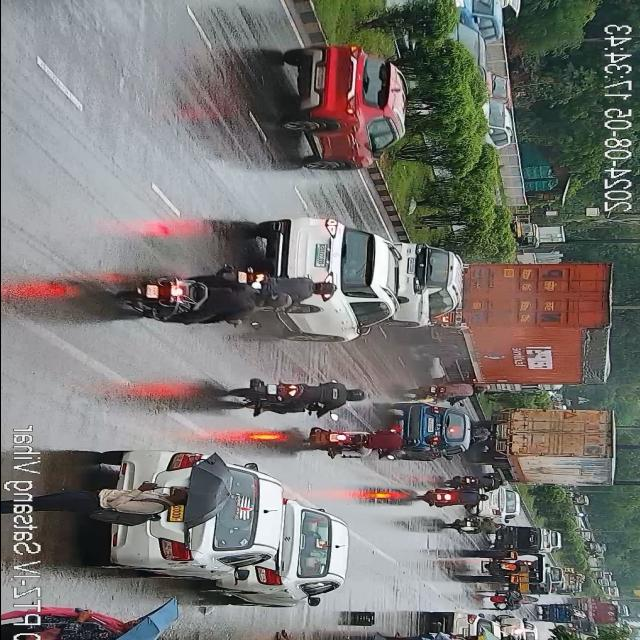2-wheelers: (116, 282, 292, 322), (190, 265, 340, 305), (230, 380, 370, 416), (301, 422, 414, 459), (412, 382, 493, 404), (418, 490, 491, 506), (444, 516, 502, 536), (445, 474, 507, 491)
auto: (484, 524, 544, 554), (480, 590, 538, 610), (540, 598, 580, 624), (505, 218, 535, 248), (514, 574, 550, 596)
car: (261, 205, 402, 333), (141, 455, 277, 583), (288, 38, 410, 168), (236, 503, 346, 605), (393, 242, 461, 322), (396, 403, 469, 461), (458, 0, 506, 44), (481, 106, 517, 150), (440, 615, 499, 640), (478, 489, 519, 519), (482, 68, 510, 106), (496, 616, 538, 640), (541, 528, 561, 555)
pedestrian: (40, 477, 222, 524), (46, 610, 147, 640), (303, 629, 395, 640), (397, 630, 478, 640)
truck: (433, 254, 614, 394), (464, 397, 622, 482), (476, 550, 542, 584), (571, 596, 623, 624), (559, 566, 587, 588)
